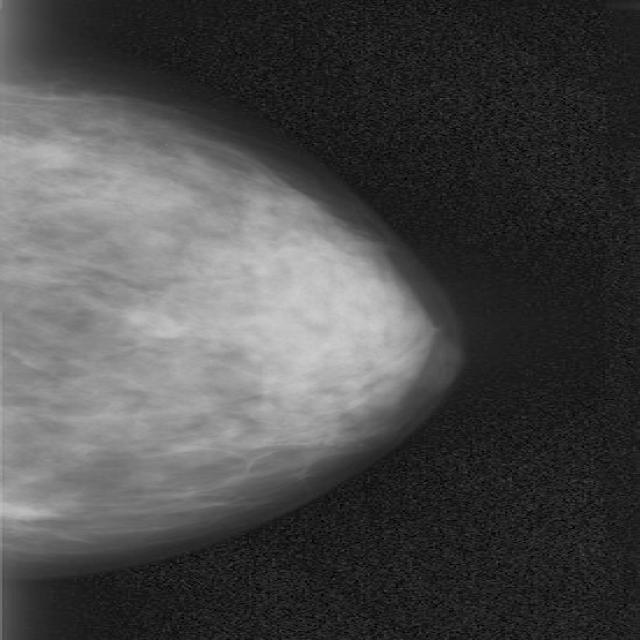tumour: (119, 308, 177, 338)
